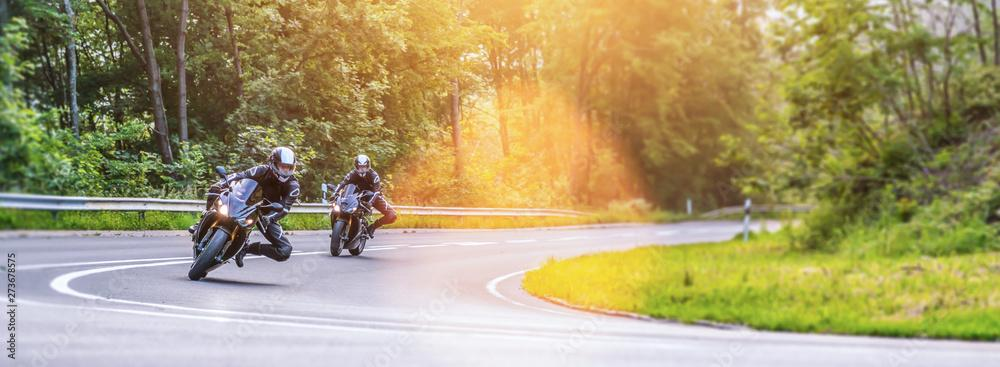helmet: (268, 146, 296, 184), (354, 154, 372, 178)
